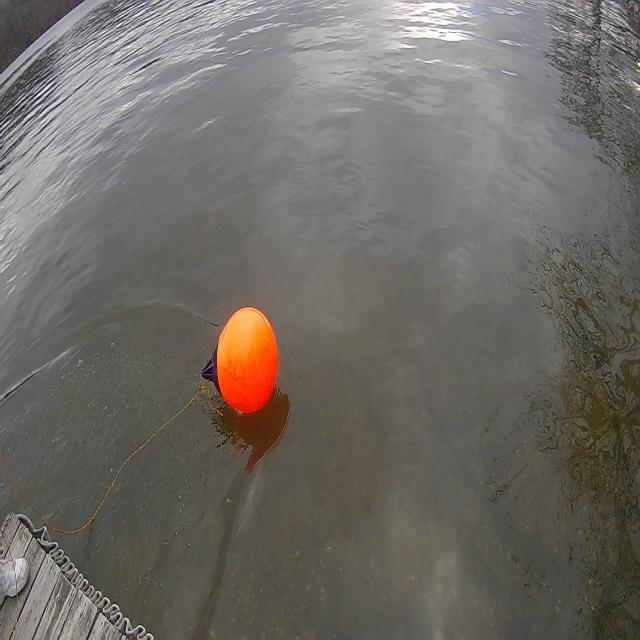Buoy: (194, 297, 284, 423)
